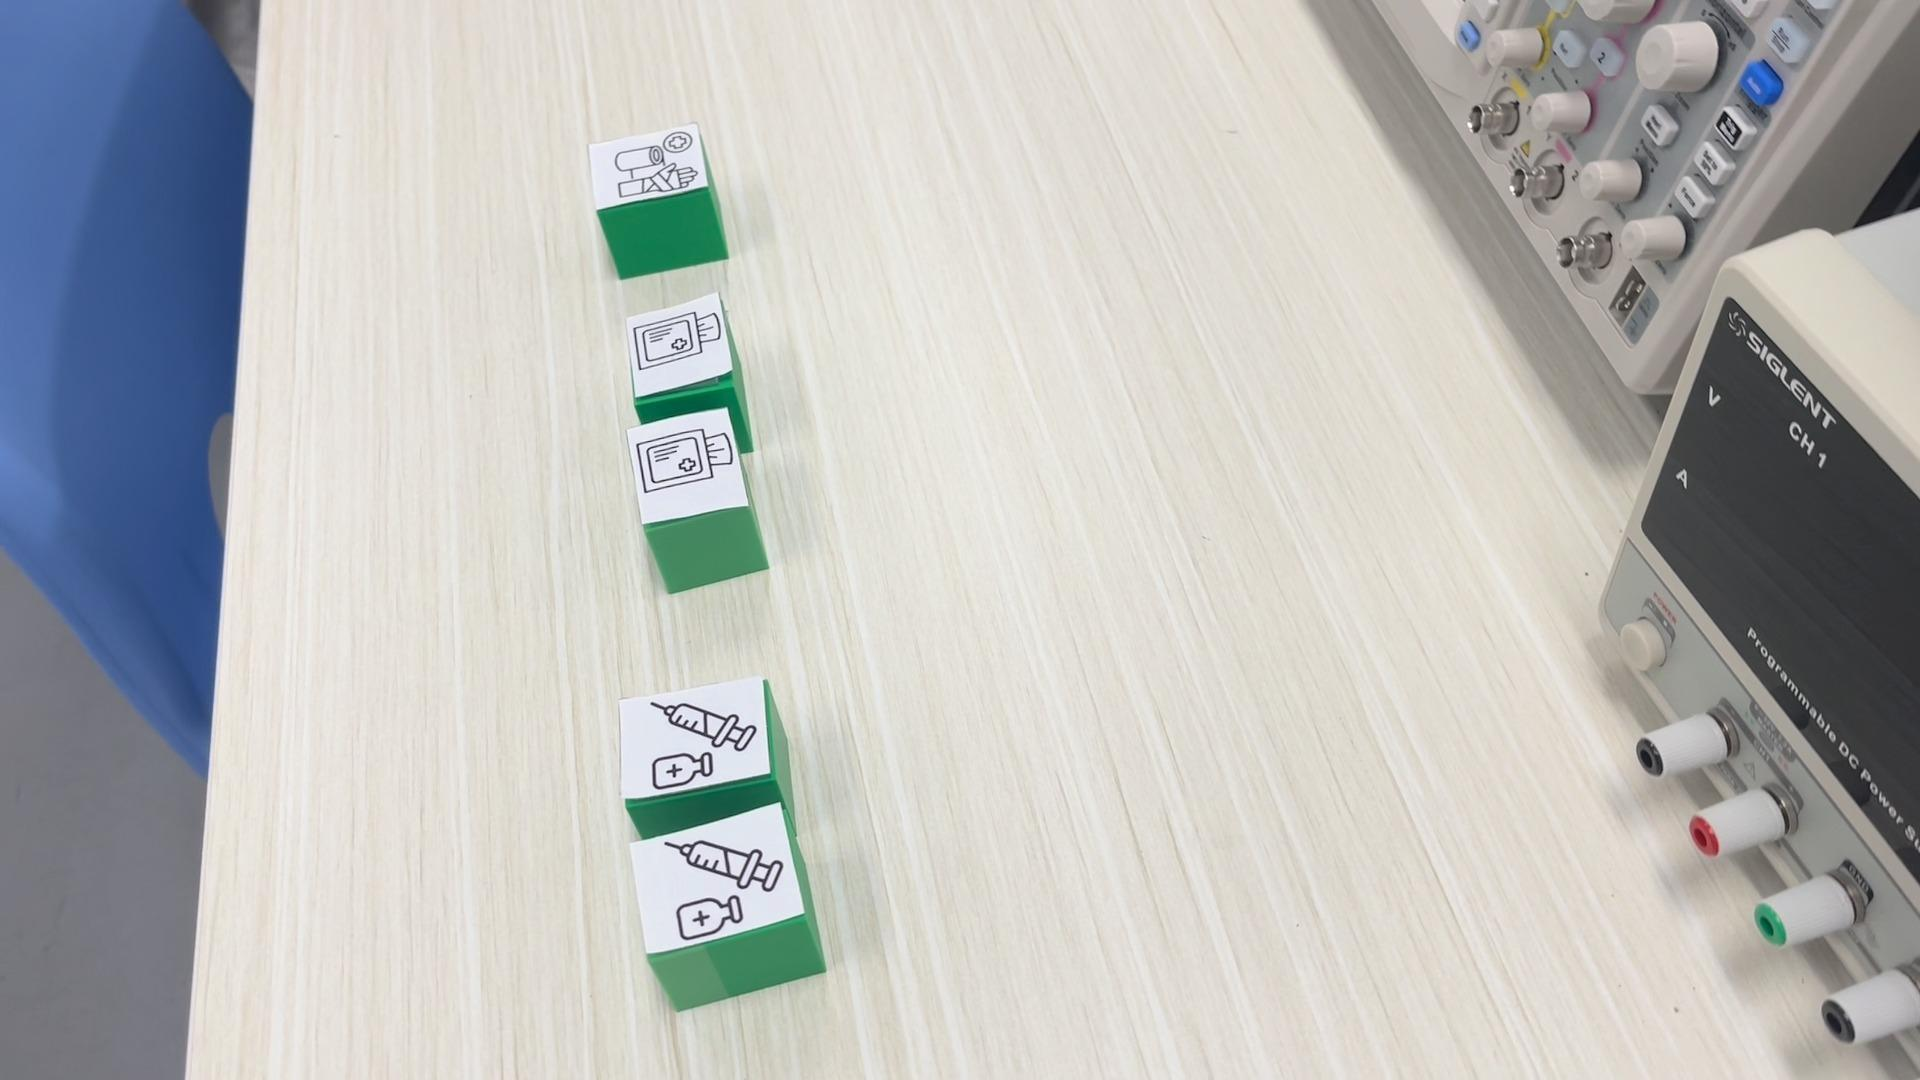Bandages: (588, 124, 731, 280)
Gauze: (629, 409, 773, 597), (626, 290, 737, 410)
antiseptic cream: (628, 802, 828, 1015), (616, 675, 793, 839)
